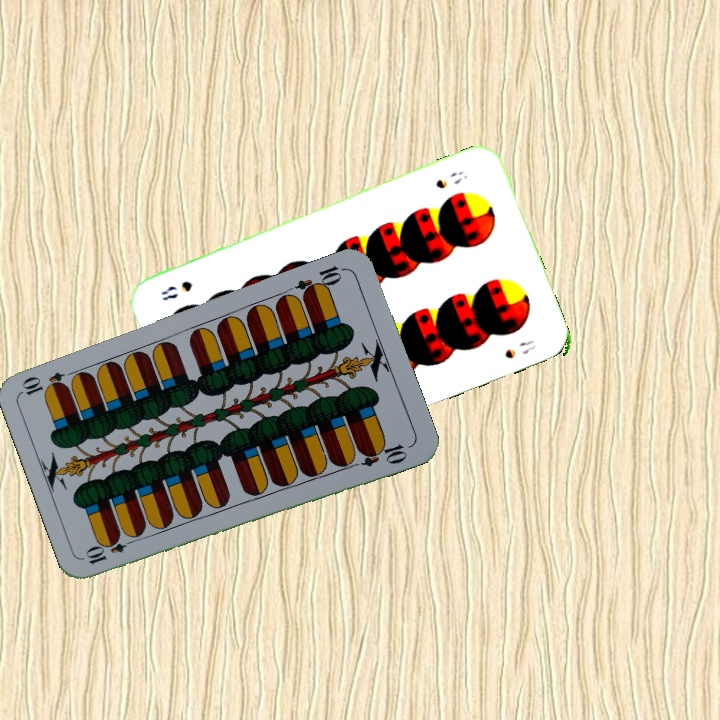E10: (291, 261, 349, 301), (82, 532, 139, 567)
S8: (432, 166, 470, 192)
